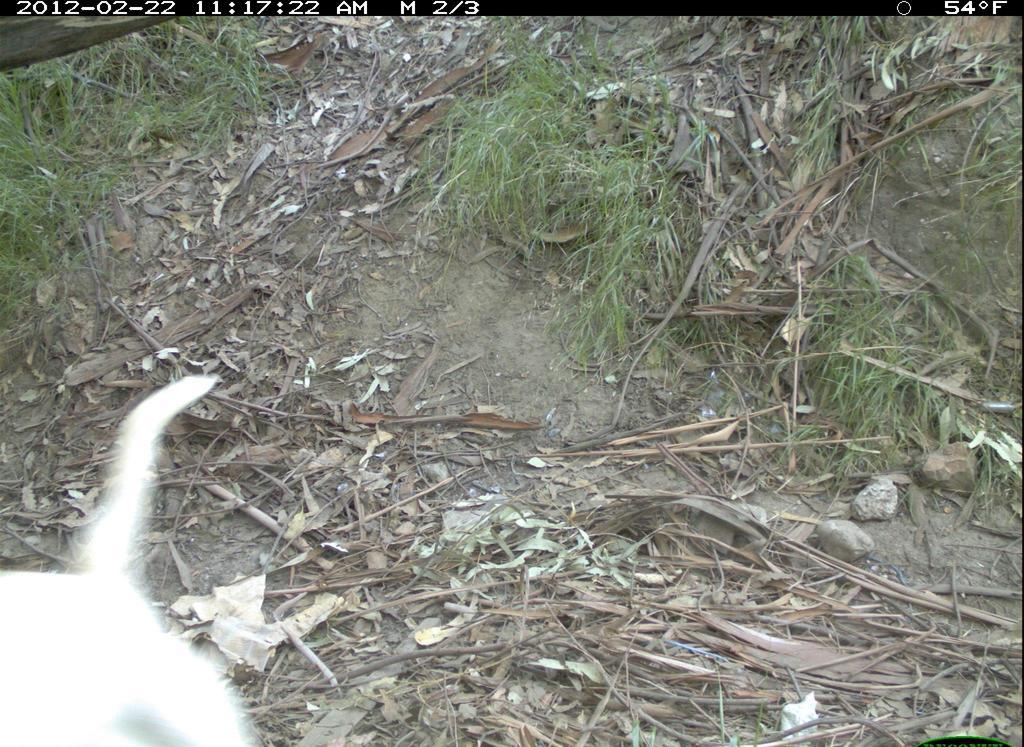dog: (5, 364, 286, 747)
